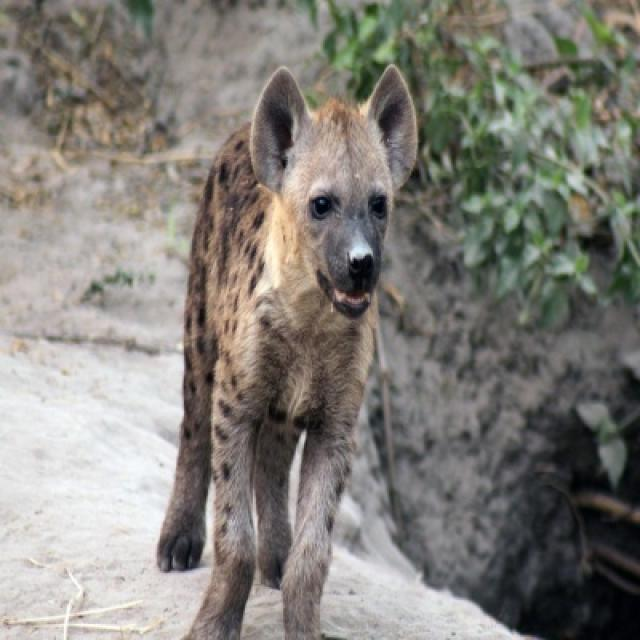hyena: (155, 64, 421, 638)
